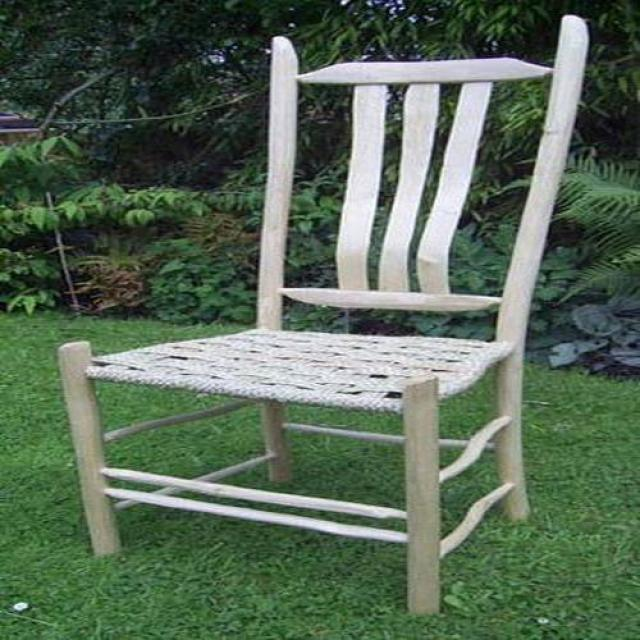chair: (59, 19, 590, 617)
